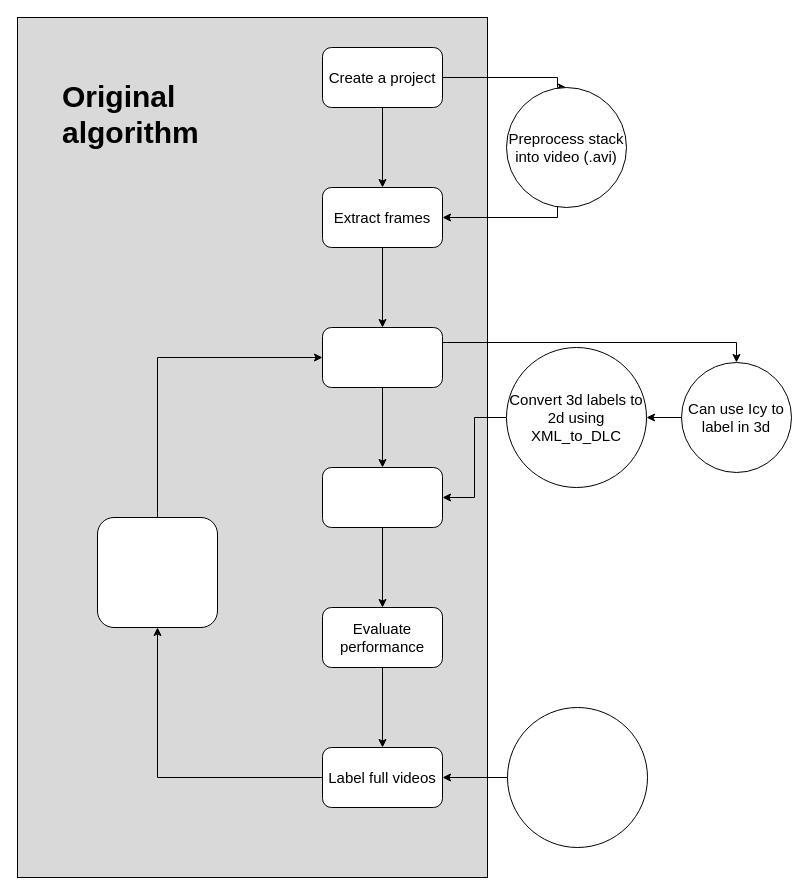
The diagram is 809 pixels wide and 895 high, and some of its shapes have lost their labels. The shapes that lost their labels are listed below. From the top down, each one's centre as x and y in pixels, then its label:
At (382,357): "Label using GUI".
At (382,497): "Train NN".
At (157,572): "If needed, correct poor performance frames".
At (577,777): "Currently: convert stacks to video".
